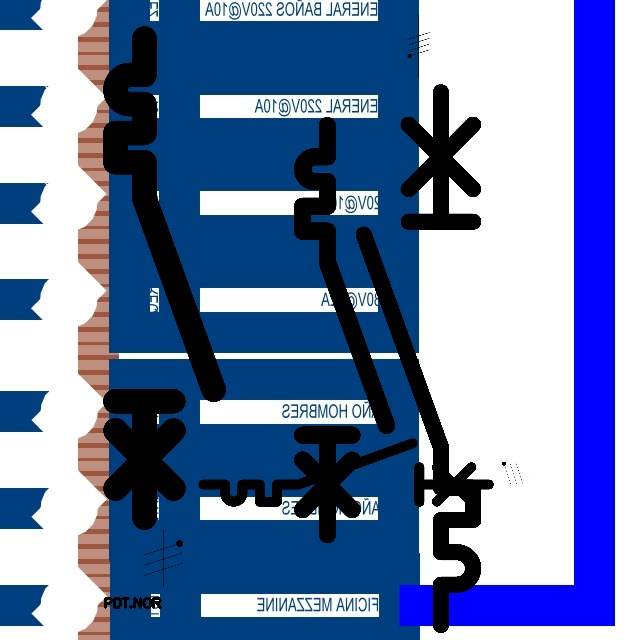interruptor_termomagnetico: (350, 78, 487, 639), (103, 26, 226, 530), (292, 115, 397, 544), (196, 436, 496, 509)
